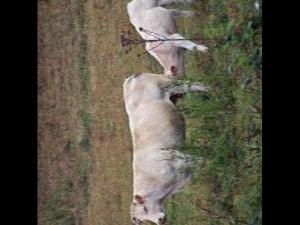cow: (121, 70, 211, 225), (130, 0, 208, 77)
